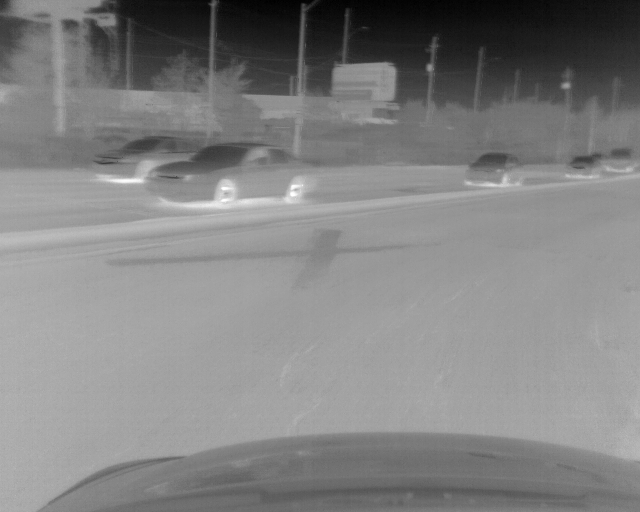car: (142, 143, 322, 203), (92, 135, 199, 182), (466, 151, 521, 185), (565, 154, 602, 179), (603, 148, 639, 172)
